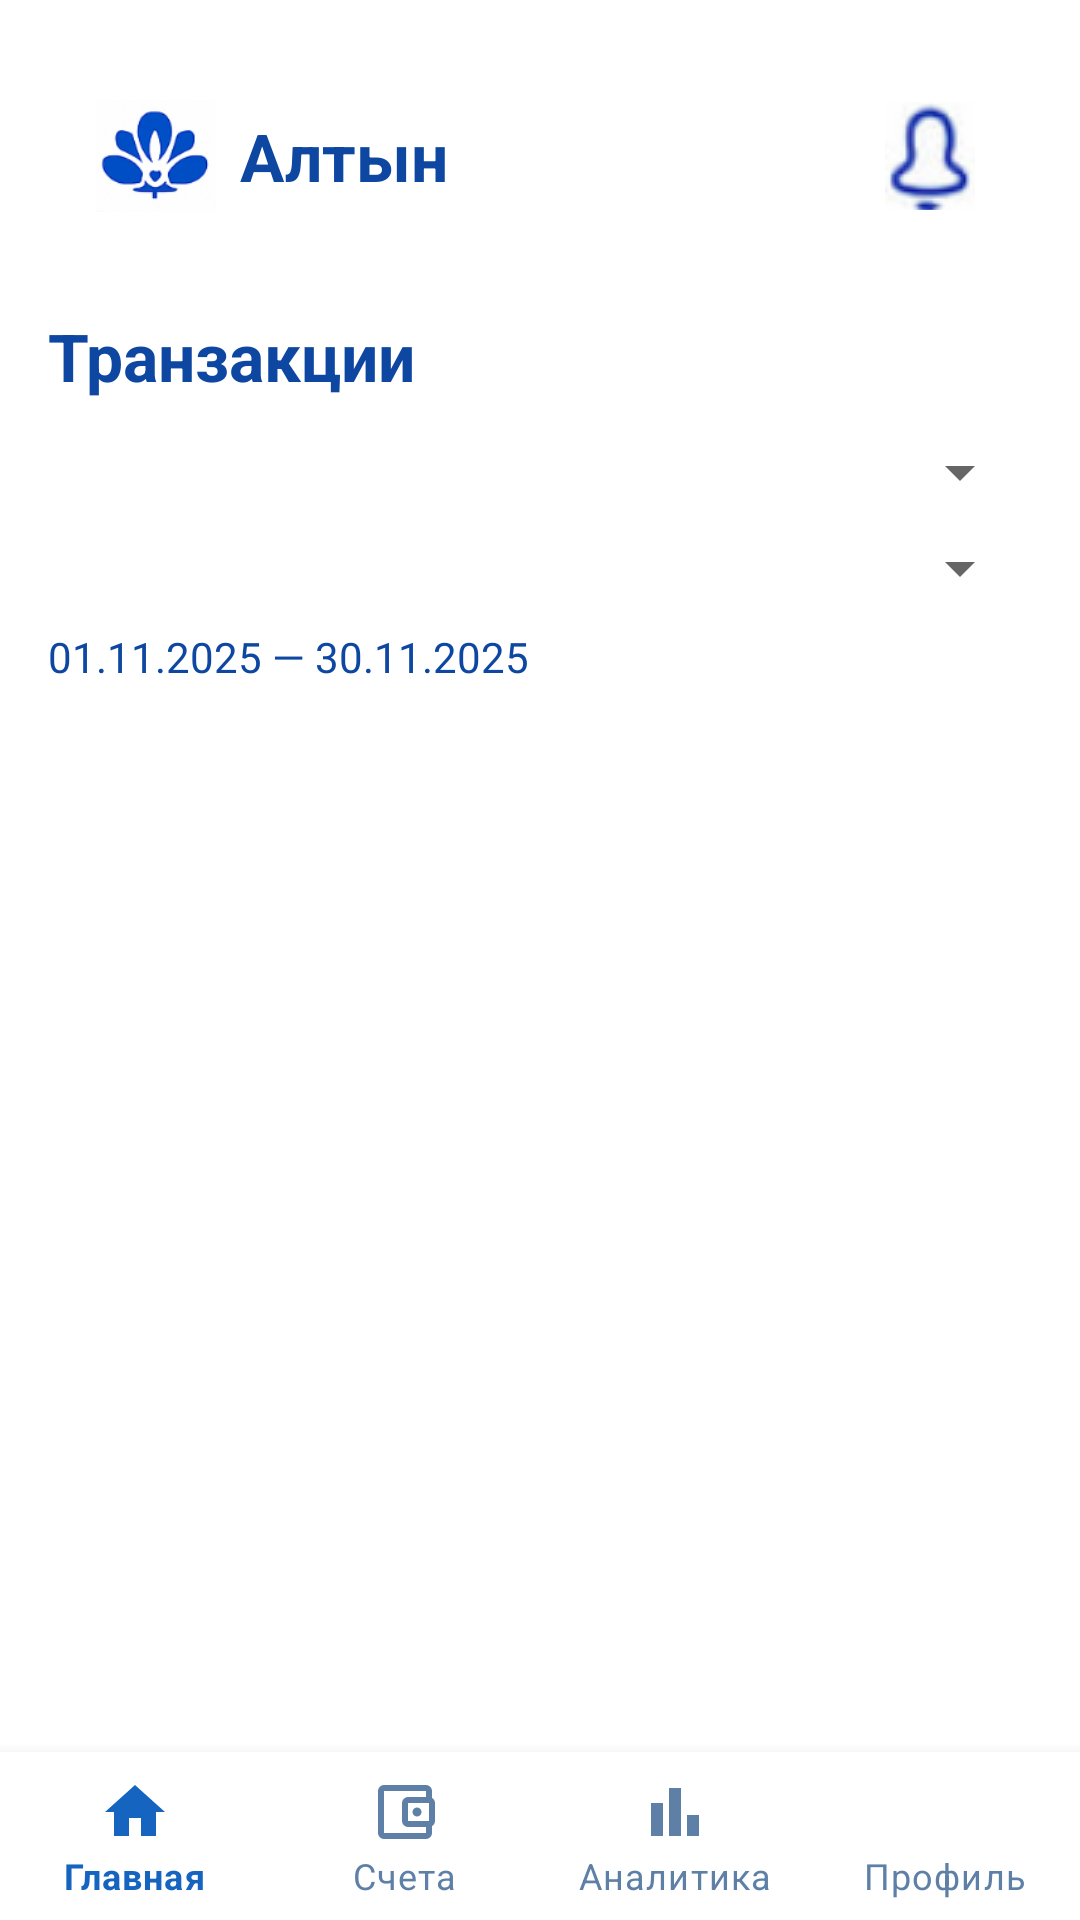

Where icons sit on this 1080px×1920px app screen, as (x1, y1, x2, y2):
Уведомления: (890, 105, 970, 210)
